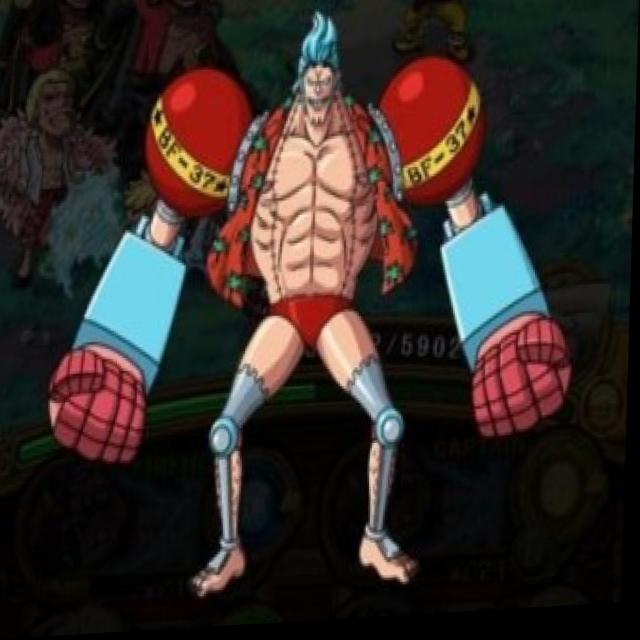Franky: (285, 13, 361, 152)
